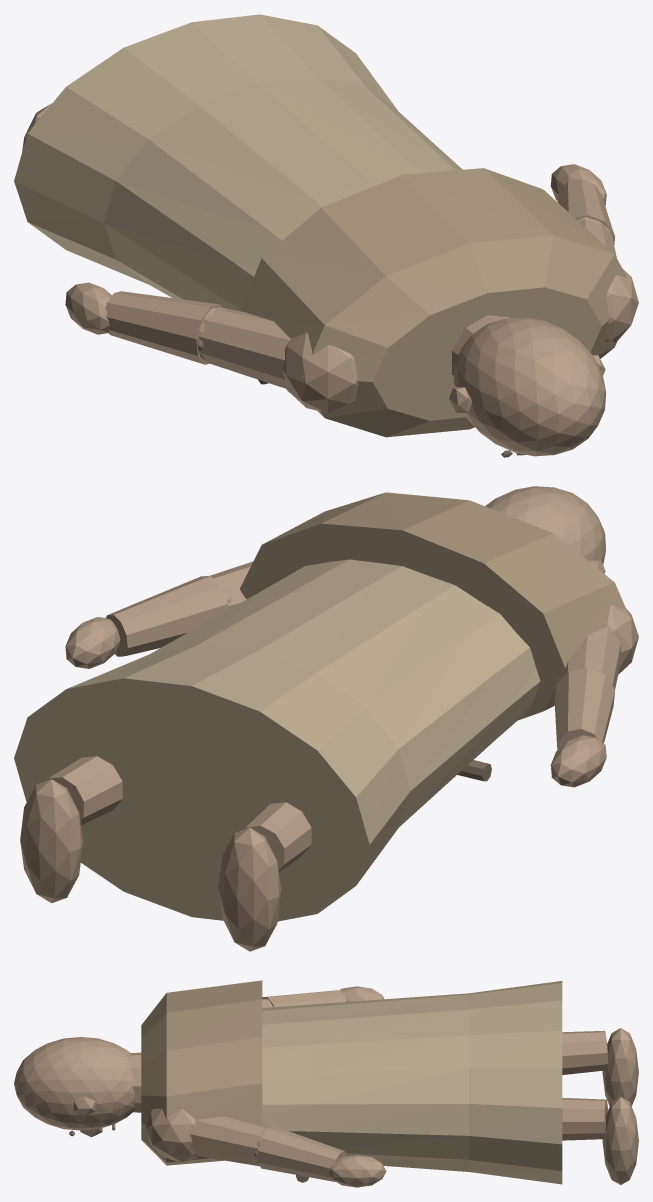
The model's file is man_sturdy__thinker.glb.
3 renders of one model, top to bottom at view 1: azimuth 30°, elevation 25°; view 2: azimuth 150°, elevation 25°; view 3: azimuth 270°, elevation 25°, orthographic. The views are drawn at different scales.
Visible parts, largest first — view 1: part_027, part_031, part_010, part_020, part_018, part_017, part_021, part_022, part_025, part_026, part_009; view 2: part_027, part_031, part_007, part_003, part_025, part_010, part_020, part_006, part_002, part_021, part_026, part_018 (+2 smaller); view 3: part_027, part_031, part_010, part_025, part_023, part_007, part_003, part_022, part_002, part_006, part_026, part_020 (+3 smaller).
Part boxes in pixels (bbox=[...]): part_027: bbox=[14, 14, 462, 311]; part_031: bbox=[240, 168, 627, 437]; part_010: bbox=[453, 317, 605, 456]; part_020: bbox=[105, 291, 222, 364]; part_018: bbox=[198, 307, 290, 388]; part_017: bbox=[282, 332, 358, 413]; part_021: bbox=[65, 282, 111, 334]; part_022: bbox=[605, 268, 638, 343]; part_025: bbox=[557, 179, 614, 244]; part_026: bbox=[550, 164, 606, 206]; part_009: bbox=[452, 315, 509, 376]; part_027: bbox=[14, 559, 540, 921]; part_031: bbox=[240, 492, 636, 720]; part_007: bbox=[20, 779, 83, 903]; part_003: bbox=[218, 827, 281, 951]; part_025: bbox=[106, 576, 228, 656]; part_010: bbox=[485, 486, 605, 564]; part_020: bbox=[554, 668, 614, 749]; part_006: bbox=[46, 756, 122, 825]; part_002: bbox=[244, 802, 311, 872]; part_021: bbox=[550, 735, 606, 787]; part_026: bbox=[65, 617, 120, 668]; part_018: bbox=[557, 626, 621, 689]; part_027: bbox=[262, 981, 562, 1184]; part_031: bbox=[141, 980, 262, 1165]; part_010: bbox=[14, 1037, 135, 1130]; part_025: bbox=[257, 1126, 347, 1181]; part_023: bbox=[190, 1116, 269, 1166]; part_007: bbox=[602, 1097, 638, 1185]; part_003: bbox=[602, 1028, 638, 1105]; part_022: bbox=[145, 1108, 199, 1162]; part_002: bbox=[562, 1030, 608, 1074]; part_006: bbox=[562, 1098, 607, 1140]; part_026: bbox=[329, 1155, 386, 1187]; part_020: bbox=[262, 990, 346, 1006].
Size of the model in its own units: 1.71 by 0.725 by 2.48.
